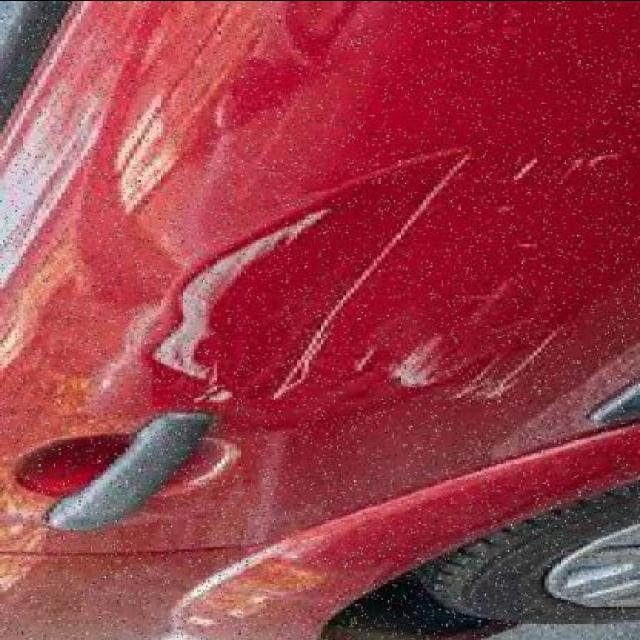doorouter-dent: (0, 47, 560, 474)
